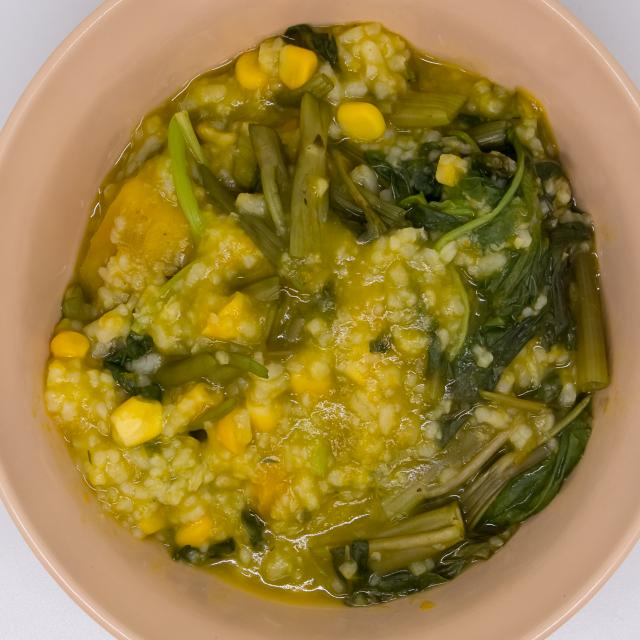Bubur-Manado: (31, 11, 623, 613)
